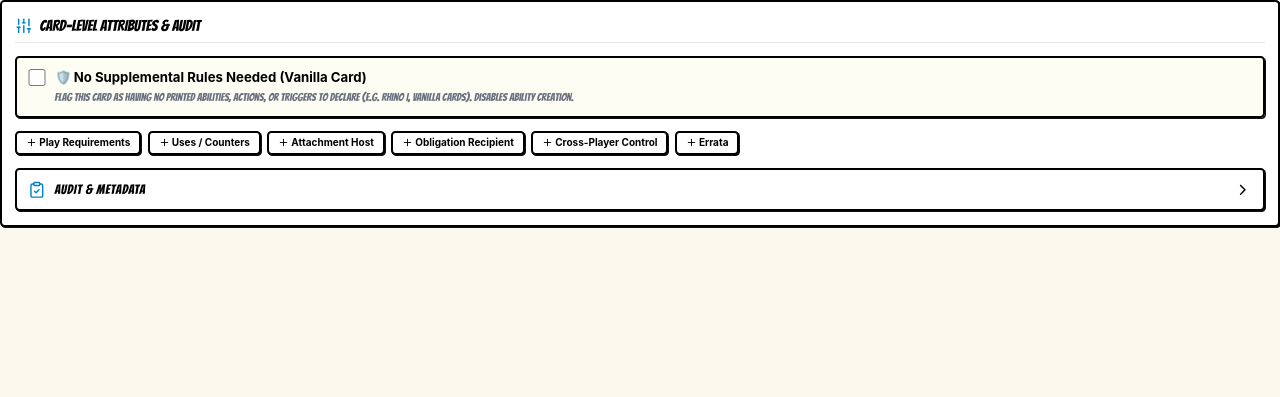
CardAttributesSection card-level chip bar › adding the uses chip writes its default value and renders its form
Click the button with test id "card-chip-add-uses": (204, 143) [148, 131, 261, 155]
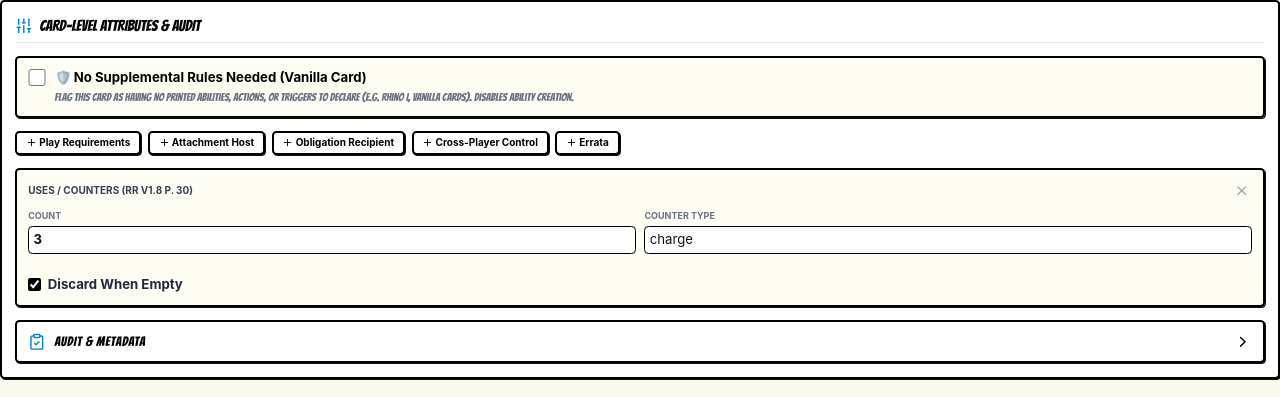
Expected: the element with test id "card-section-uses" is shown, [15, 168, 1265, 307]
Expected: the button with test id "card-chip-add-uses" is gone
